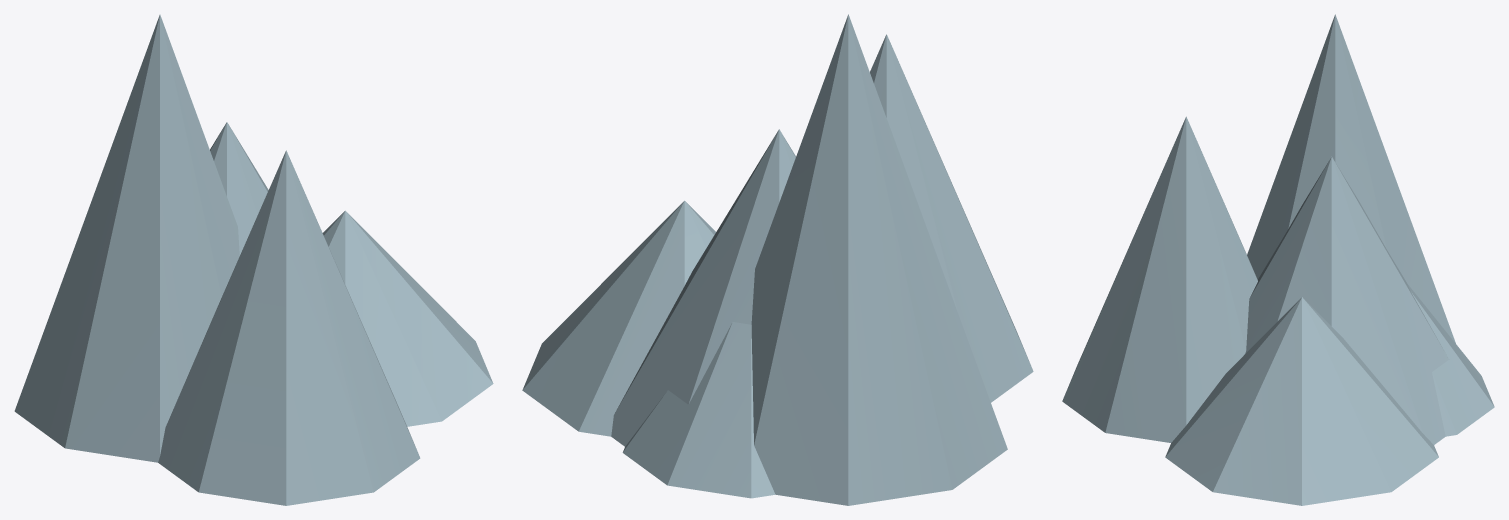
File: ice_spire-02.glb
The picture shows the model from 3 angles, left to right: view 1: azimuth 30°, elevation 25°; view 2: azimuth 150°, elevation 25°; view 3: azimuth 270°, elevation 25°; orthographic projection. The views are drawn at different scales.
Parts seen in each view (by area): view 1: world; view 2: world; view 3: world.
Boxes of the visible parts, box(x1,y1,x2,y2) form: world: box(14, 14, 493, 505); world: box(522, 14, 1033, 505); world: box(1062, 14, 1494, 505).
Size of the model in its own units: 1.27 by 1.13 by 1.23.
